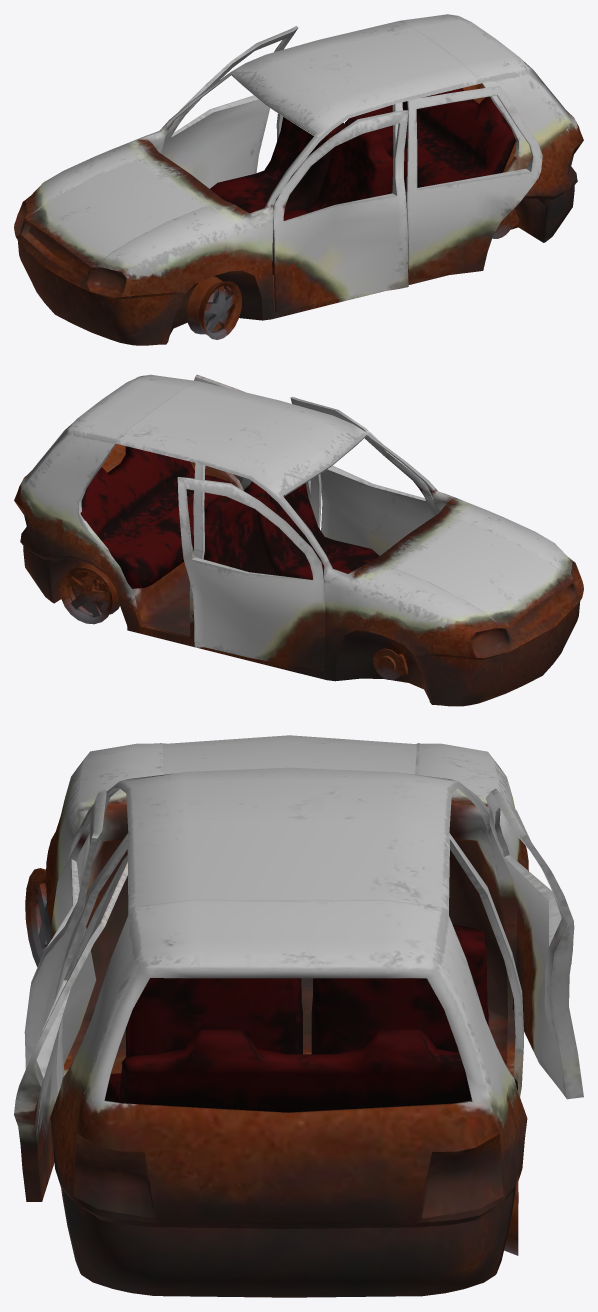
File: vrak_kombi.glb
The picture shows the model from 3 angles, top to bottom: view 1: azimuth 30°, elevation 25°; view 2: azimuth 150°, elevation 25°; view 3: azimuth 270°, elevation 25°; orthographic projection. The views are drawn at different scales.
Parts seen in each view (by area): view 1: CarChasis-low, Door-Front-Left, Door-Back-Left, Seat-Back, Door-Front-Right, Seat-Front-Left.001, Seat-Front-Left, Rim-Front-Left; view 2: CarChasis-low, Door-Front-Right, Seat-Back, Door-Front-Left, Seat-Front-Left, Seat-Front-Left.001, Rim-Back-Right, Rim-Front-Right; view 3: CarChasis-low, Seat-Back, Door-Front-Right, Seat-Front-Left, Seat-Front-Left.001, Door-Back-Left, Door-Front-Left, Rim-Front-Left.
Part boxes in pixels (box(x1,y1,x2,y2)): CarChasis-low: box(14, 14, 583, 345); Door-Front-Left: box(273, 110, 408, 312); Door-Back-Left: box(406, 86, 542, 280); Seat-Back: box(344, 88, 516, 194); Door-Front-Right: box(161, 26, 298, 188); Seat-Front-Left.001: box(210, 117, 346, 213); Seat-Front-Left: box(272, 122, 392, 274); Rim-Front-Left: box(186, 276, 241, 339); CarChasis-low: box(14, 374, 583, 706); Door-Front-Right: box(177, 477, 325, 670); Seat-Back: box(80, 446, 236, 588); Door-Front-Left: box(290, 396, 436, 555); Seat-Front-Left: box(244, 481, 379, 581); Seat-Front-Left.001: box(203, 495, 285, 576); Rim-Back-Right: box(59, 562, 119, 624); Rim-Front-Right: box(373, 648, 408, 680); CarChasis-low: box(45, 735, 528, 1297); Seat-Back: box(105, 1029, 517, 1112); Door-Front-Right: box(485, 788, 583, 1099); Seat-Front-Left: box(126, 978, 302, 1057); Seat-Front-Left.001: box(311, 924, 488, 1054); Door-Back-Left: box(14, 855, 127, 1201); Door-Front-Left: box(24, 789, 109, 1069); Rim-Front-Left: box(25, 868, 51, 966).
Bounding box in the file's own units: 4.4 × 1.49 × 2.25.
Materials: 1 (1 with a texture image).
